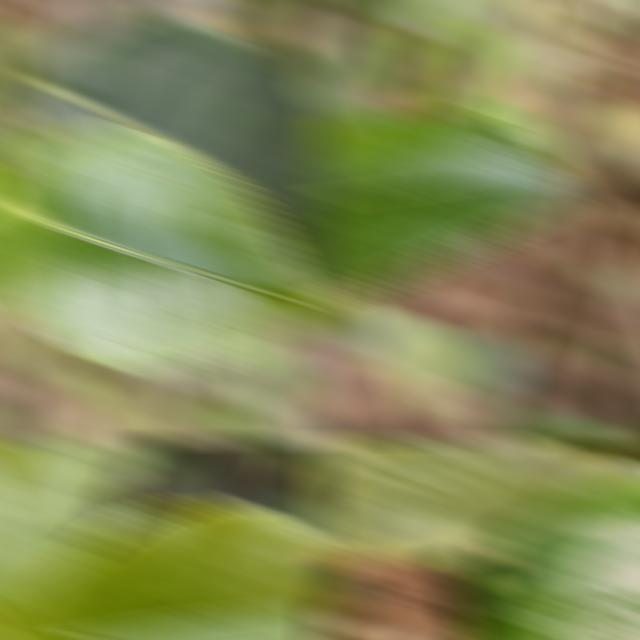Leaf: (0, 124, 329, 374), (24, 16, 330, 276), (310, 109, 577, 300), (0, 500, 330, 640), (310, 438, 606, 567), (467, 462, 640, 640), (0, 438, 148, 617), (358, 309, 467, 418), (361, 0, 522, 38), (446, 330, 535, 396), (310, 55, 381, 131), (442, 23, 512, 99), (382, 27, 437, 106)
